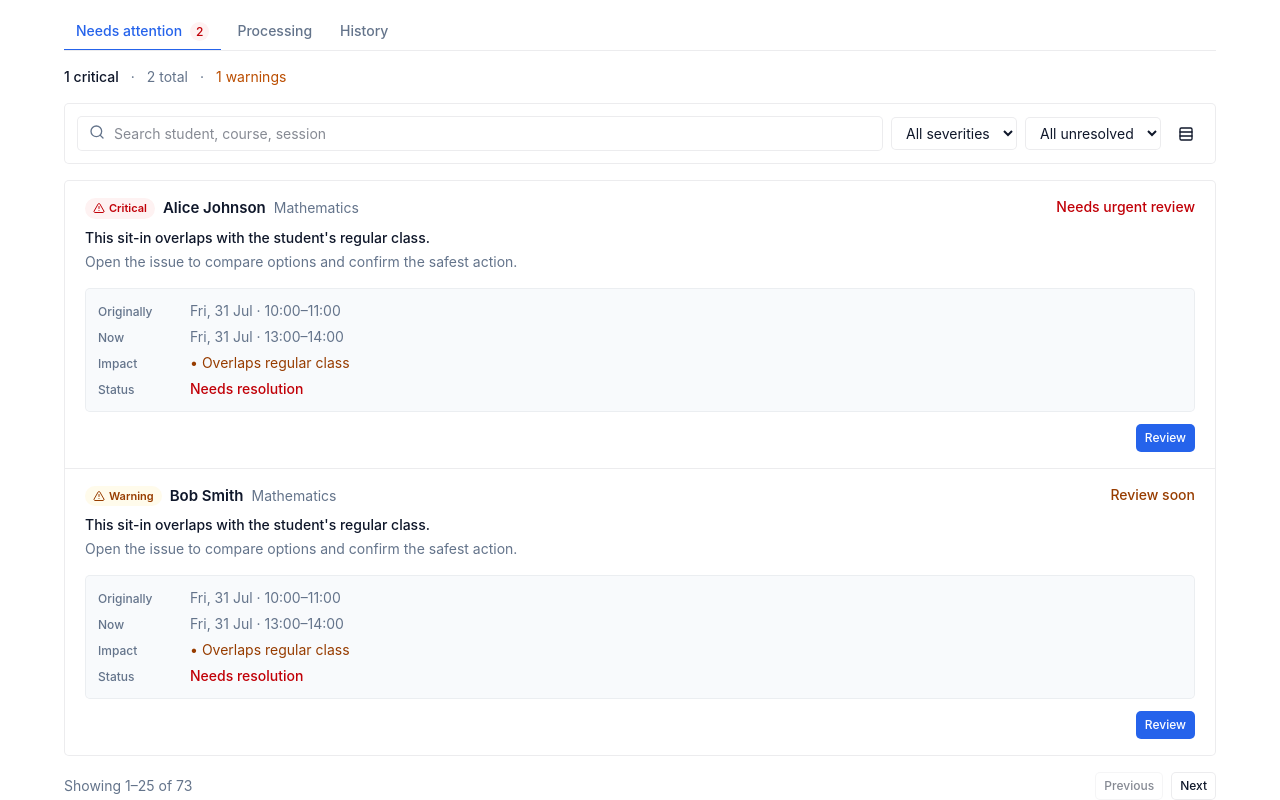
it: SessionChanges queue view › keeps previous data visible while a new page is fetched
(page scrolled)
Expected: the text "Alice Johnson" is shown, [163, 197, 266, 220]
Click the button "Next".
click(1194, 786)  # box [1171, 772, 1216, 799]
(page scrolled)
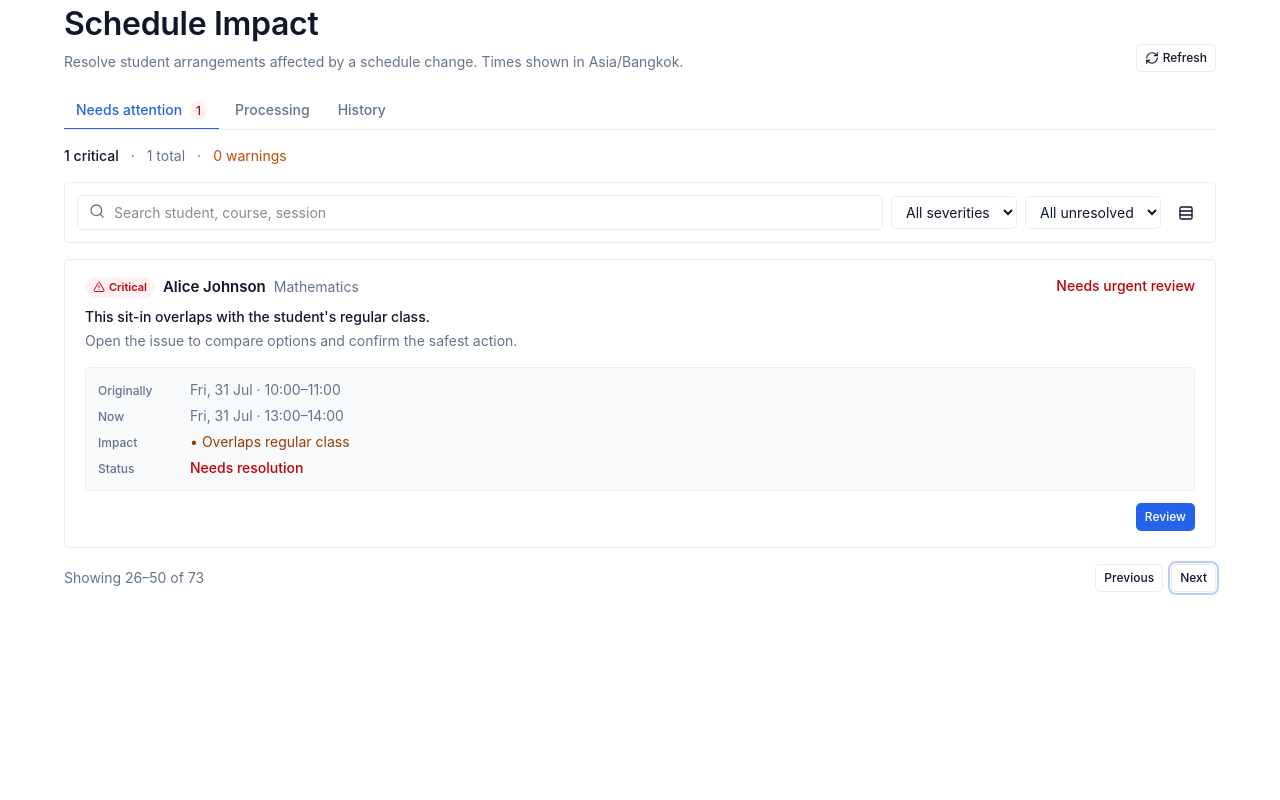
Expected: the text "Alice Johnson" is shown, [163, 276, 266, 298]
Now the button "Bob Smith" is gone
